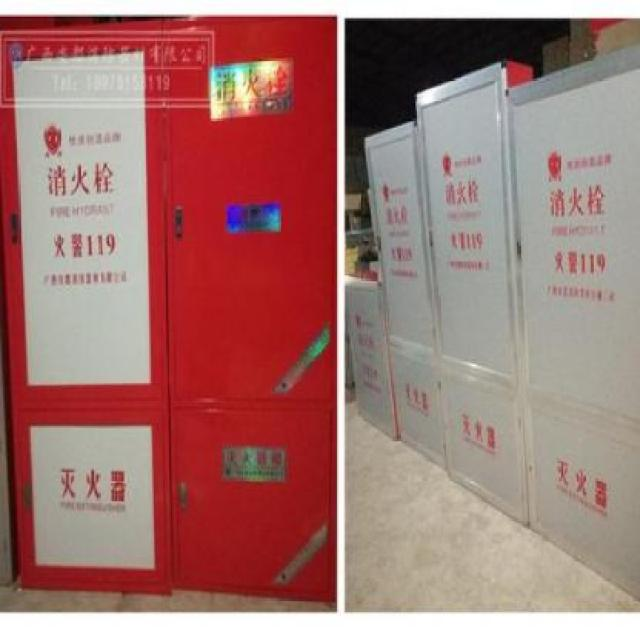firehydrant: (164, 11, 338, 603), (0, 14, 173, 600), (503, 39, 639, 606), (416, 52, 538, 534), (363, 120, 448, 473), (344, 266, 402, 445)
